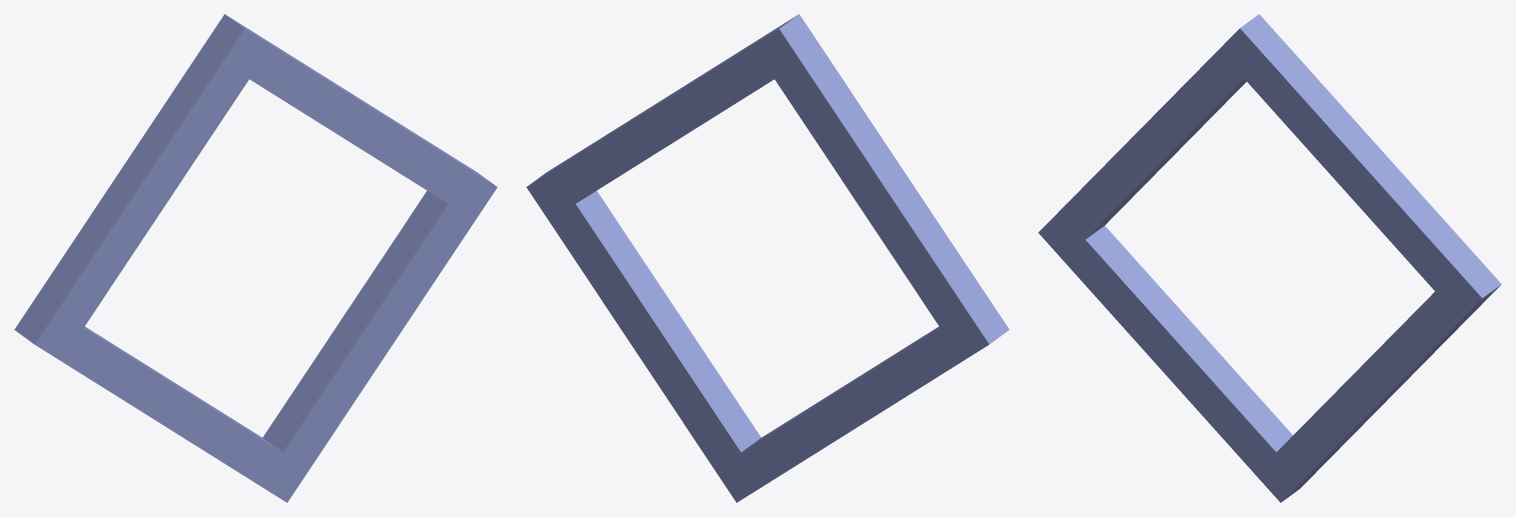
The model's file is Copie de carre_aiguille_heure^Horloge Comtoise Verge - Sonnerie.obj.
The picture shows the model from 3 angles, left to right: view 1: azimuth 30°, elevation 25°; view 2: azimuth 150°, elevation 25°; view 3: azimuth 330°, elevation 25°; orthographic projection. The views are drawn at different scales.
Visible parts, largest first — view 1: Face_1, Face_8, Face_5, Face_7, Face_2; view 2: Face_10, Face_8, Face_5, Face_7, Face_2; view 3: Face_1, Face_7, Face_2, Face_6, Face_3.
Part boxes in pixels (box(x1,y1,x2,y2)): Face_1: box(35, 29, 497, 502); Face_8: box(14, 14, 244, 344); Face_5: box(262, 191, 447, 452); Face_7: box(226, 15, 494, 185); Face_2: box(84, 326, 281, 451); Face_10: box(526, 29, 988, 502); Face_8: box(779, 14, 1009, 344); Face_5: box(576, 191, 761, 452); Face_7: box(529, 15, 797, 185); Face_2: box(742, 326, 939, 451); Face_1: box(1038, 28, 1481, 502); Face_7: box(1240, 14, 1501, 298); Face_2: box(1085, 225, 1292, 452); Face_6: box(1282, 284, 1501, 501); Face_3: box(1086, 79, 1246, 238).
Bounding box in the file's own units: 0.0132 × 0.0132 × 0.001.
